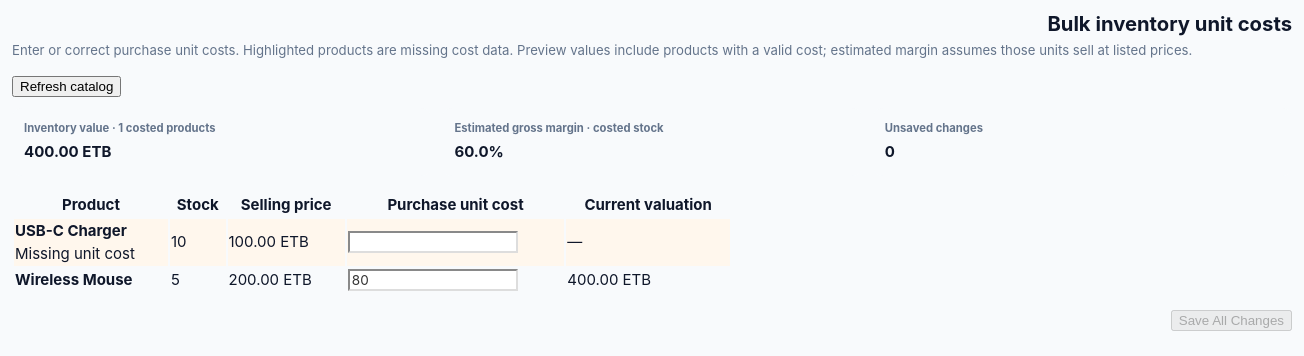
Scenario: BulkCostUpdater › saves only changed costs and shows success feedback
Type "50.25" into the number field named "Unit cost for USB-C Charger".
click(433, 242); type("50.25")  # box [348,232,518,254]
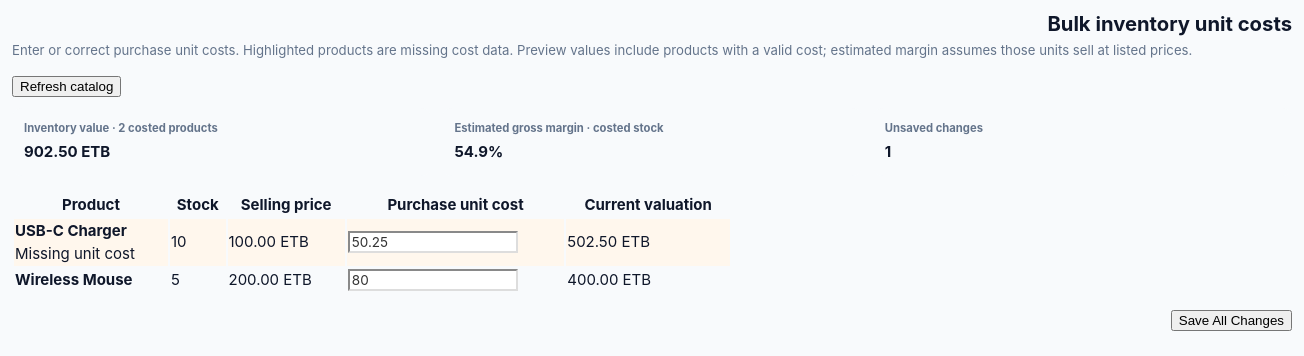
Click the button "Save All Changes".
click(1231, 320)  # box [1171,310,1292,331]
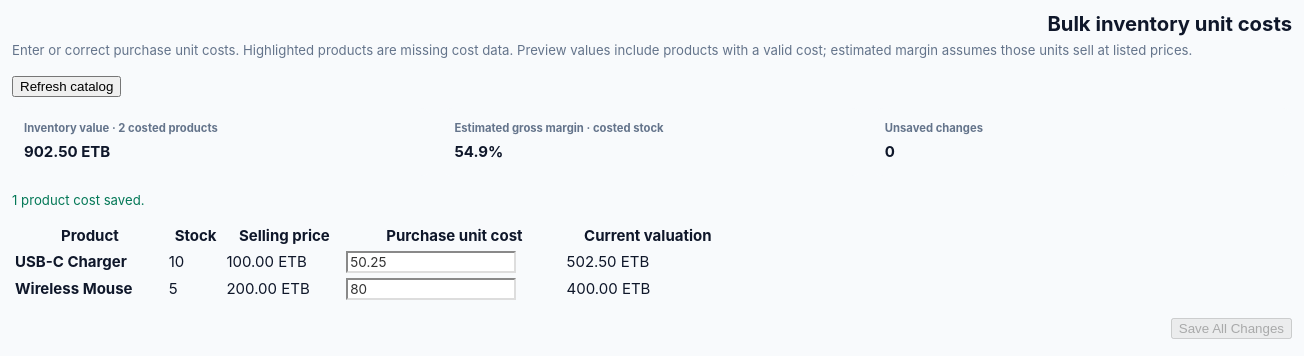
expect the message reads "1 product cost saved.": met, box [12,192,144,208]
